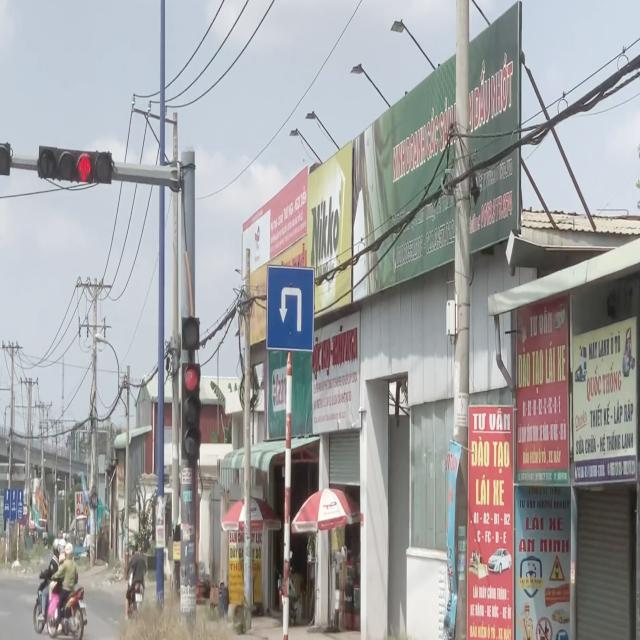Chi dan: (266, 264, 315, 352)
